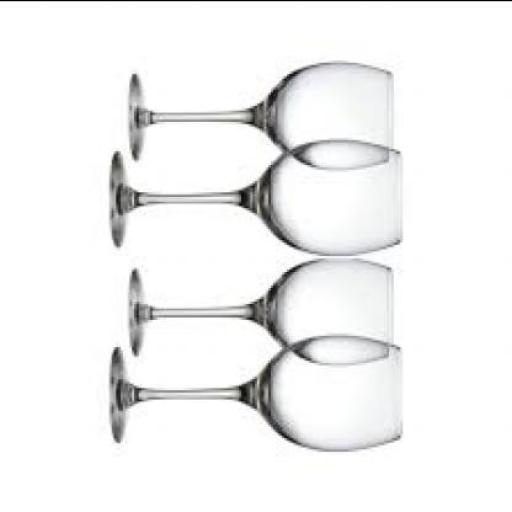glass: (116, 136, 412, 250), (114, 334, 405, 446), (132, 253, 396, 361), (134, 59, 396, 166)
